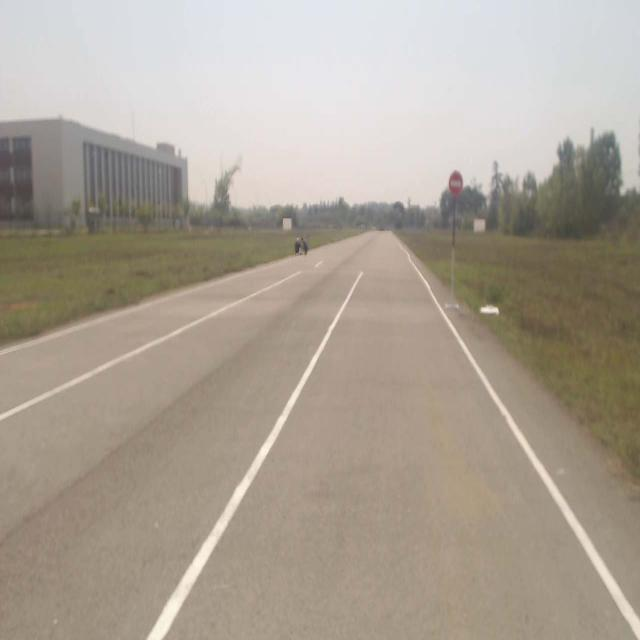girisyok: (449, 170, 463, 197)
